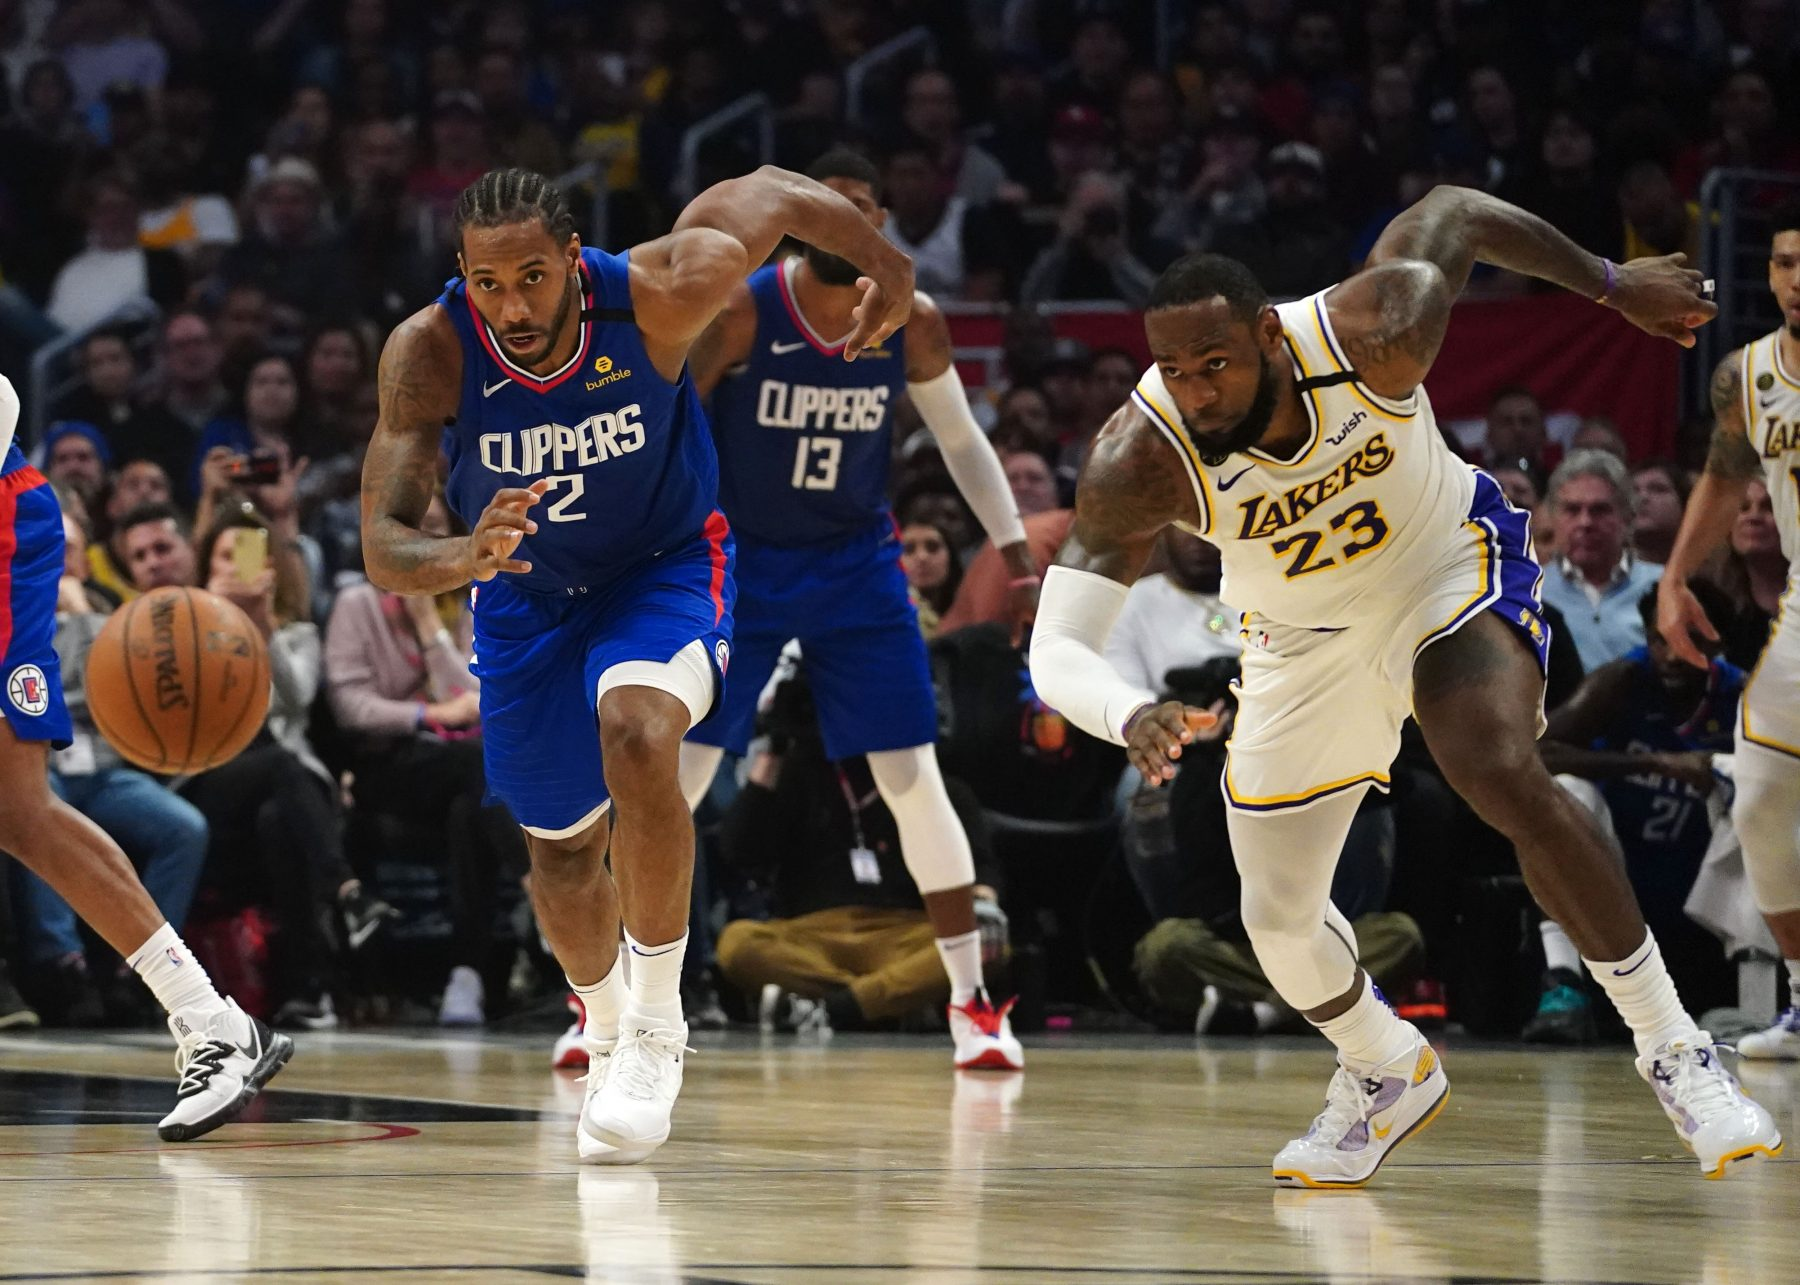ball: (85, 585, 274, 775)
